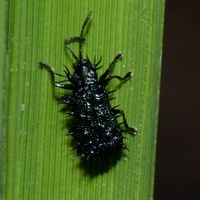insect: (39, 11, 136, 159)
